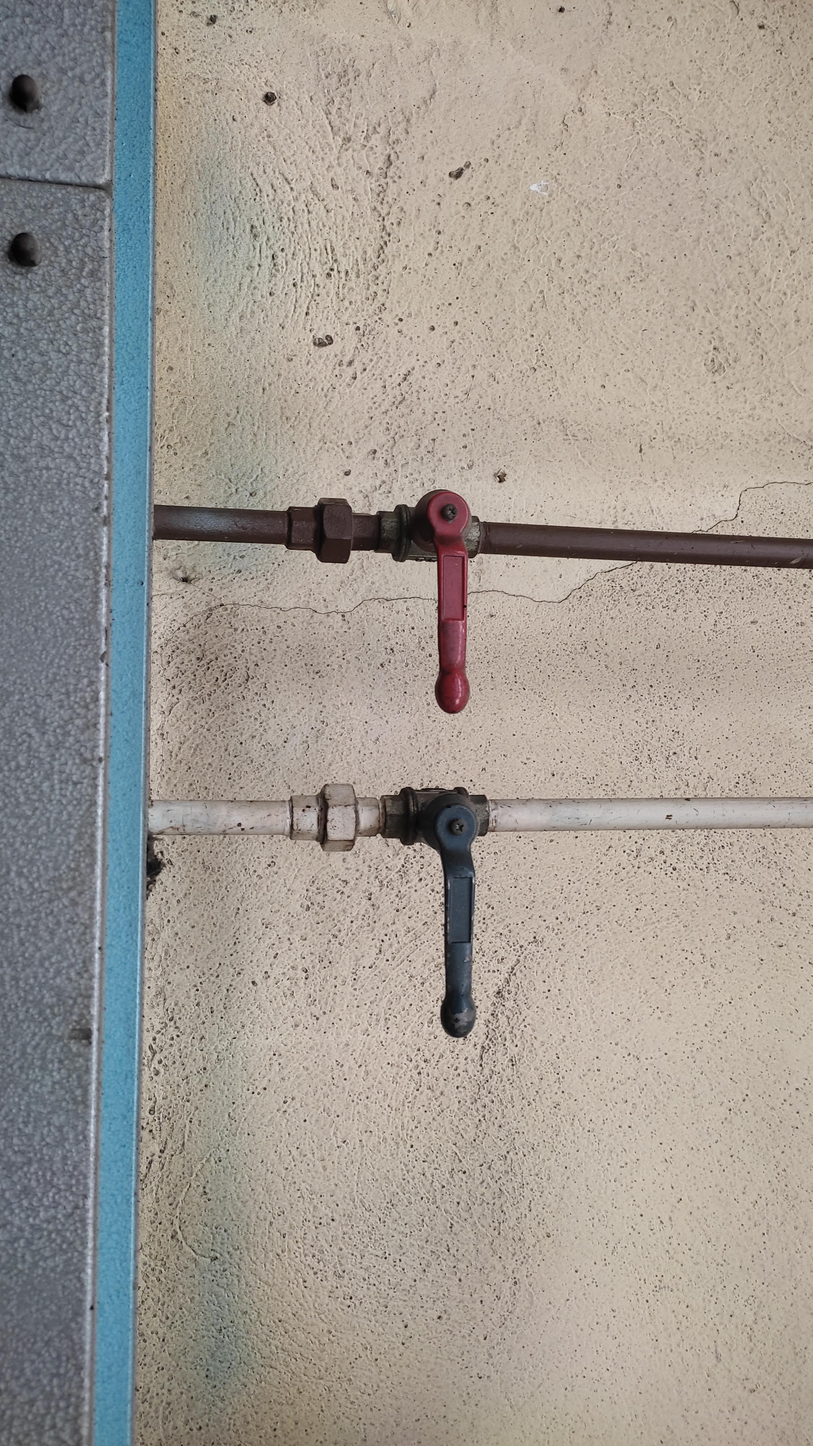closed valve: (391, 780, 494, 1041), (381, 485, 486, 717)
